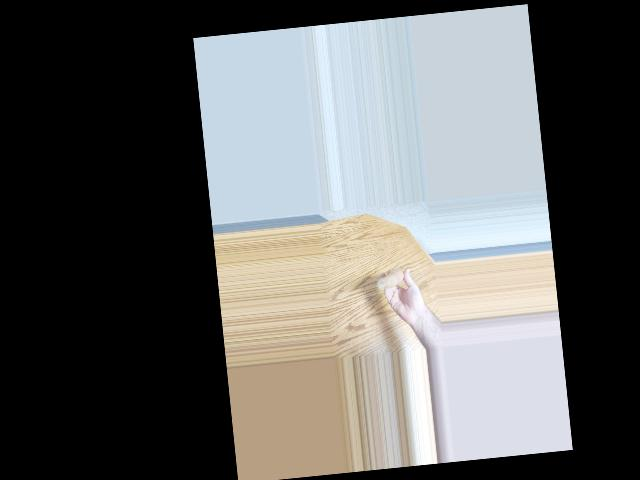sweet_potato: (375, 270, 407, 292)
